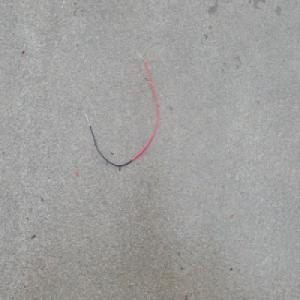Wire: (84, 49, 160, 169)
